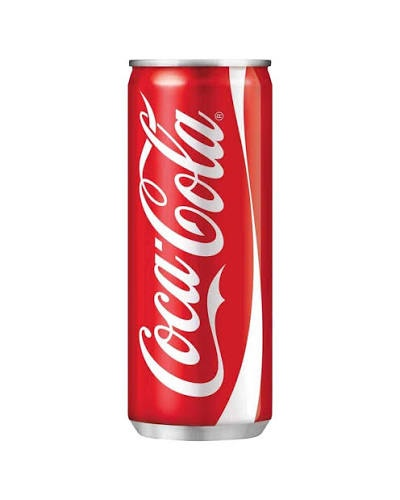cocaco: (125, 59, 279, 439)
